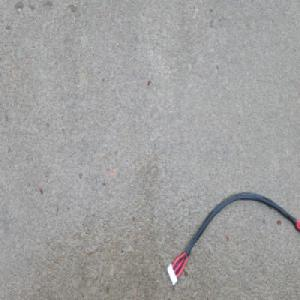Wire: (166, 190, 300, 287)
